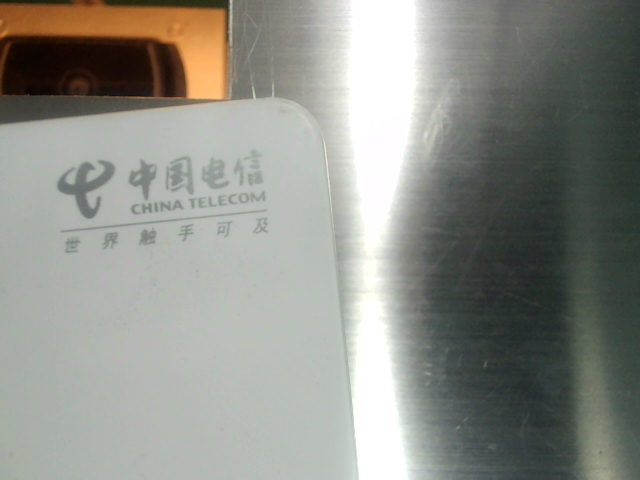AB_ChinaTelecom: (46, 143, 289, 253)
